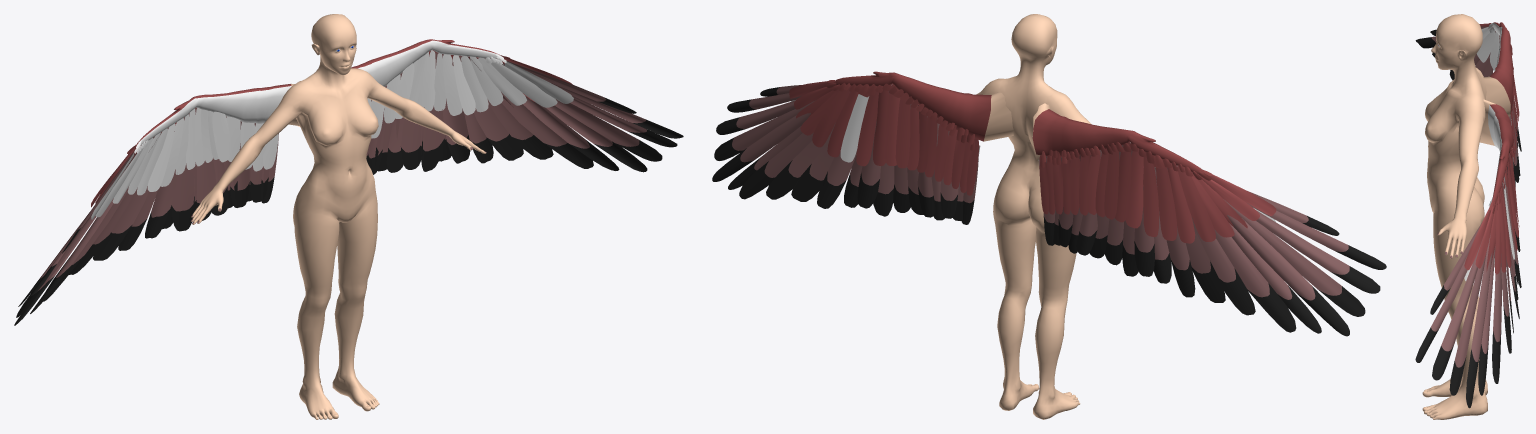
The model's file is linnet.fbx.
3 renders of one model, left to right at view 1: azimuth 30°, elevation 25°; view 2: azimuth 150°, elevation 25°; view 3: azimuth 270°, elevation 25°, orthographic.
Visible parts, largest first — view 1: Merged_Meshes; view 2: Merged_Meshes; view 3: Merged_Meshes.
Boxes of the visible parts, bbox=[...] form: Merged_Meshes: bbox=[14, 14, 683, 419]; Merged_Meshes: bbox=[712, 14, 1386, 419]; Merged_Meshes: bbox=[1415, 14, 1521, 419].
Size of the model in its own units: 29.47 by 16.57 by 4.09.
13 materials, 8 textured.
